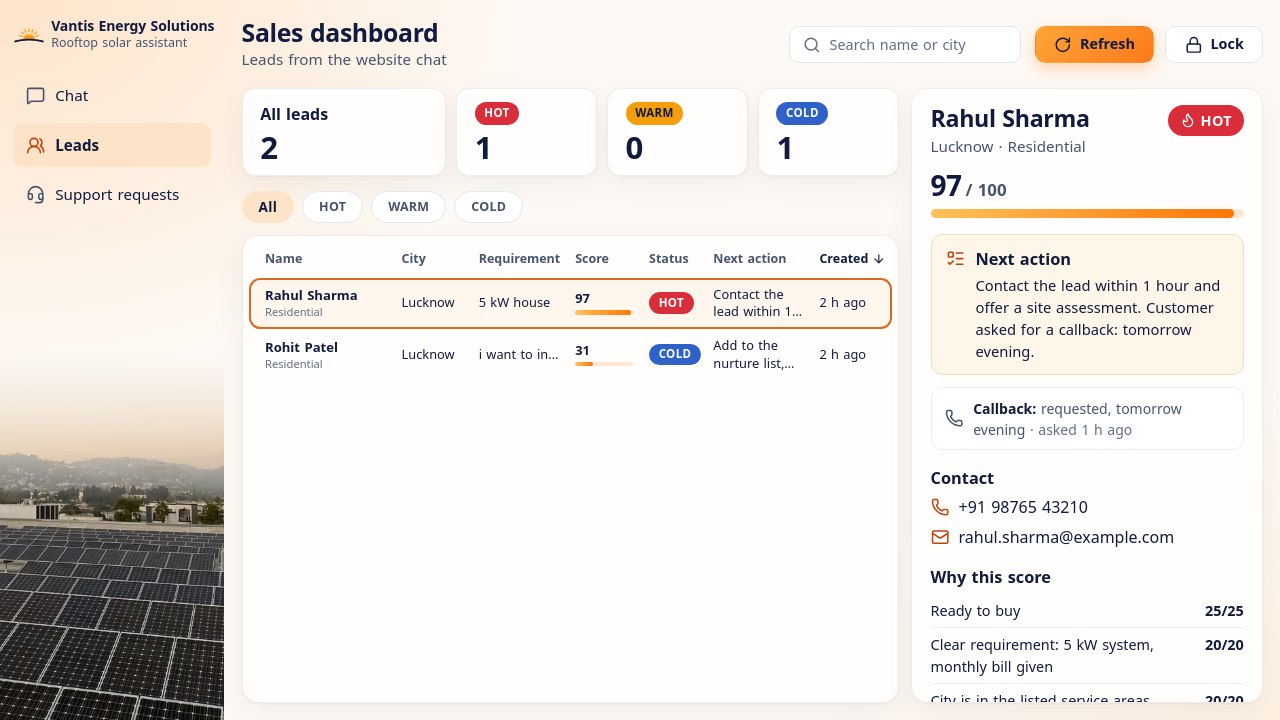
Scenario: leads › shows short versions in the table and the full text in the detail panel
The image size is (1280, 720).
Check: the text "5 kW house" is shown, box [479, 294, 559, 312]
Check: the text "Contact the lead within 1 hour and offer a site assessment." is shown, box [713, 286, 804, 320]
Click the link "Rohit Patel": (302, 346) [265, 338, 338, 356]
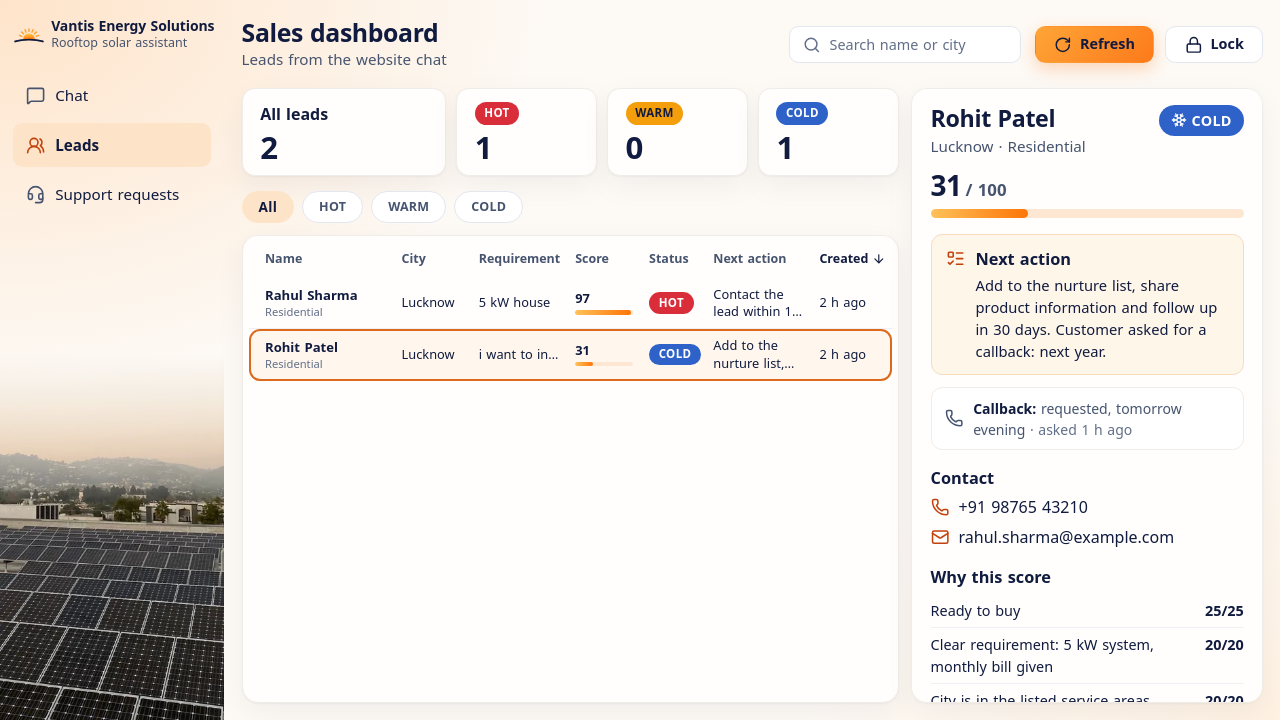
Check: the heading "Why this score" is shown, box [931, 566, 1051, 588]
Check: the text "Add to the nurture list, share product information and follow up in 30 days. Customer asked for a callback: next year." is shown, box [976, 275, 1217, 361]
